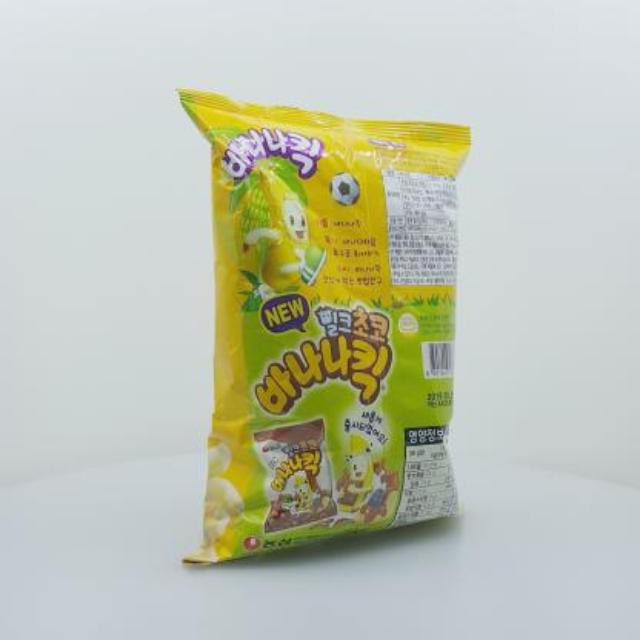snack_bag: (162, 76, 482, 574)
